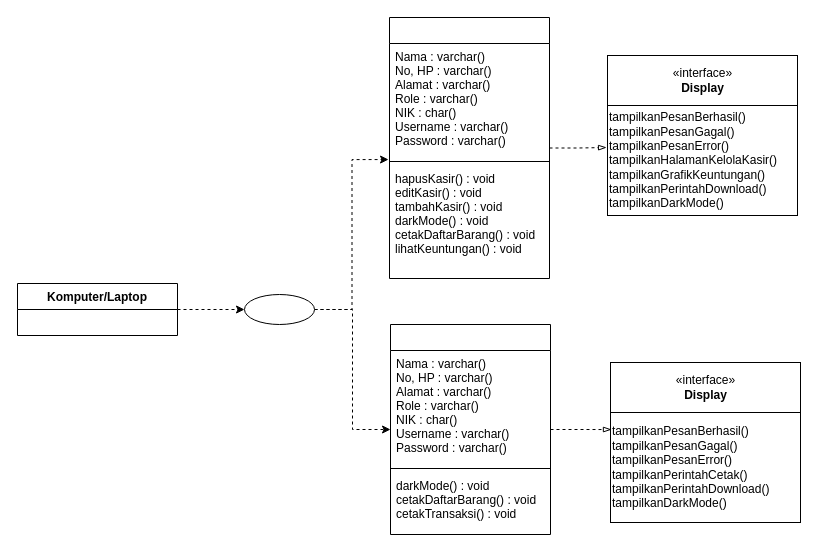
This 818x555 diagram has some shape labels left out. Each missing label, with the box of its shape:
Display: (244, 294, 314, 324)
Kasir: (390, 324, 550, 534)
Super Admin: (388, 16, 550, 278)
